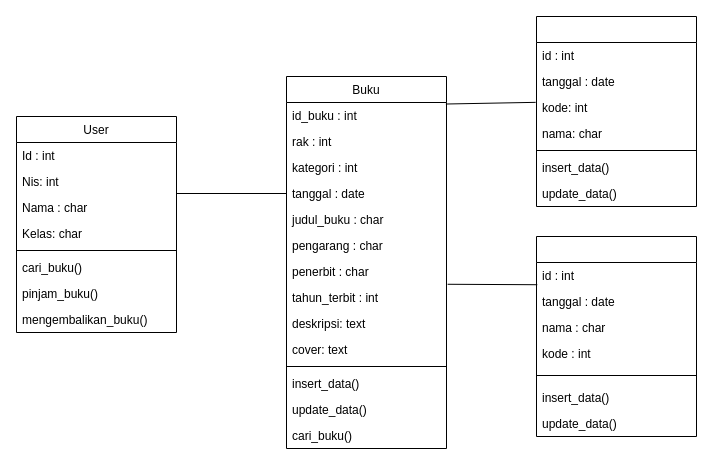
Image size: 713x465. Some labels were removed from this diagram. The shapes that lost their labels are listed below. From the top down, each one's box as (x1, y1, x2, y2) in pixels, then its label:
(536, 16, 696, 206): Rak
(536, 236, 696, 436): Kategori
